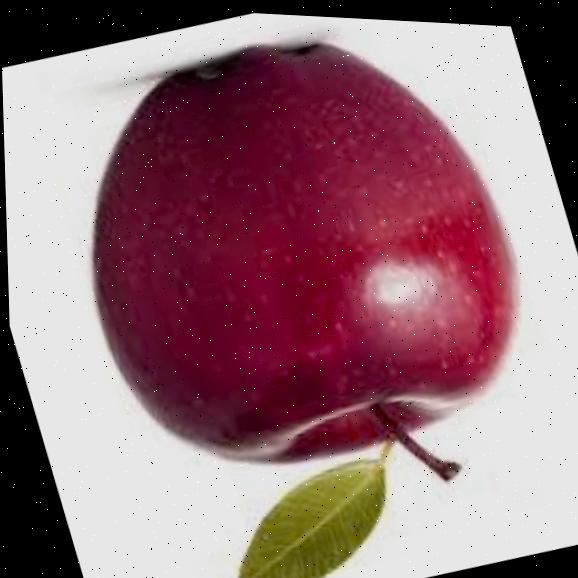HEALTHY: (10, 1, 578, 543)
